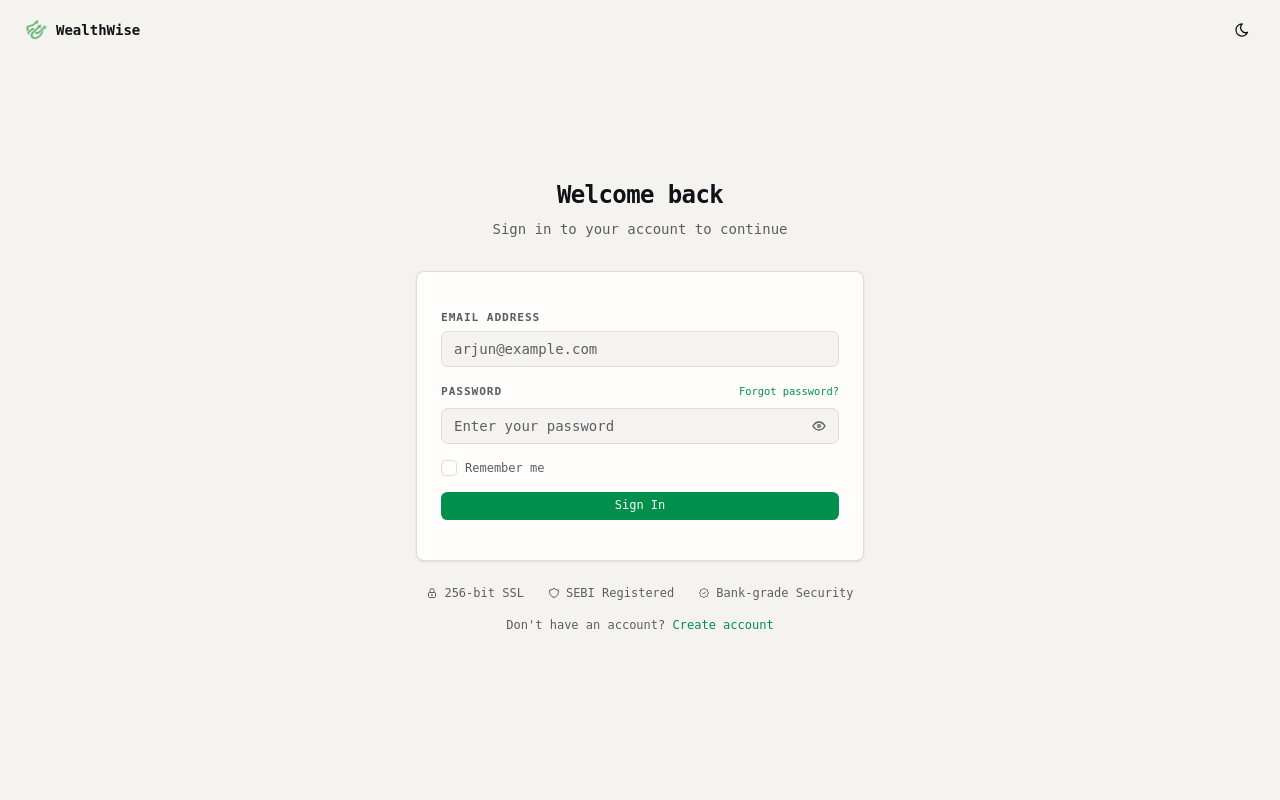
SignInPage › shows error when password is empty on submit
This screenshot has width=1280, height=800.
Type "test@test.com" into the field labelled "Email Address".
click(640, 349); type("test@test.com")  # box [441,331,839,367]
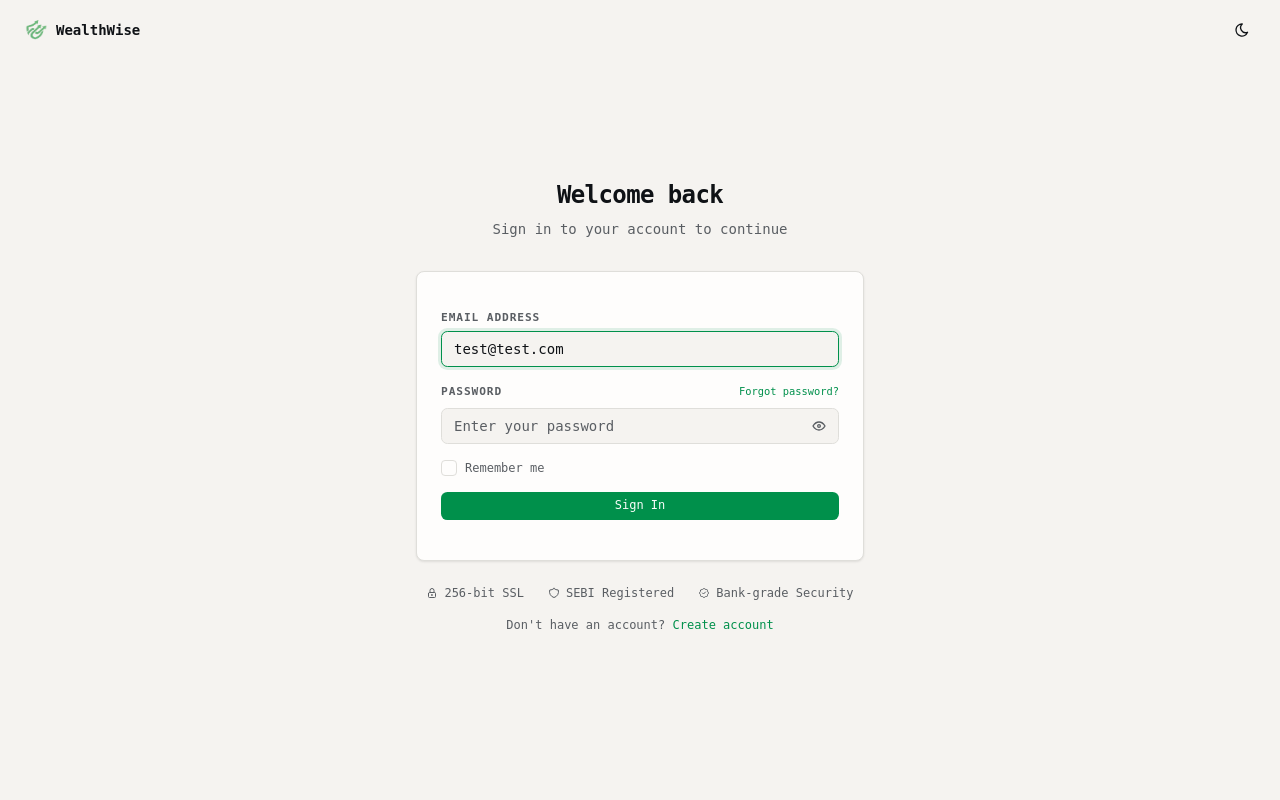
Click the button "Sign In".
click(640, 506)  # box [441,492,839,520]
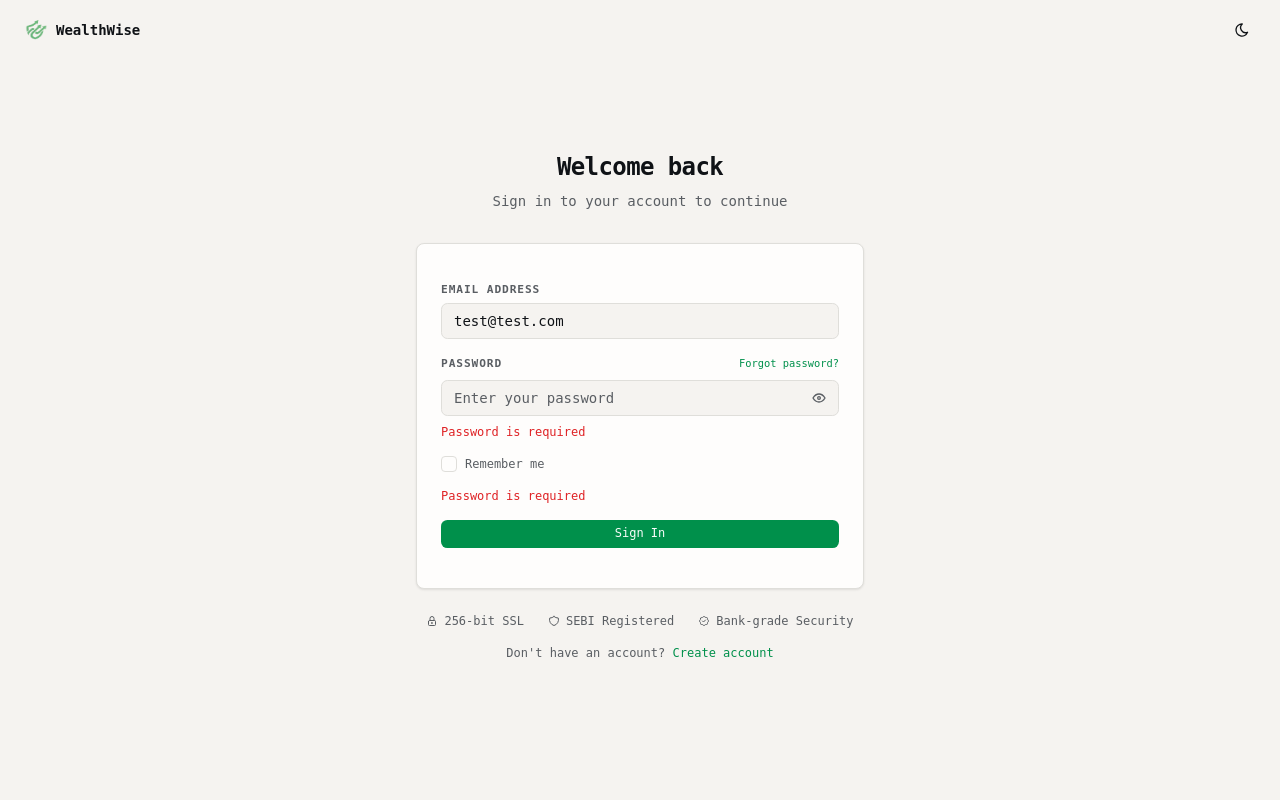
Now the text "Password is required" is shown, box [441,425,586,439]
